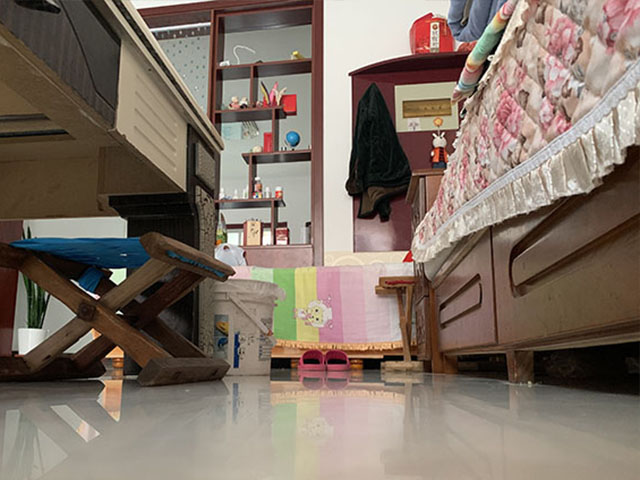bed: (415, 1, 640, 384)
slippers: (326, 350, 353, 373), (299, 348, 323, 370)
stool: (1, 231, 236, 387)
table: (1, 1, 225, 381)
